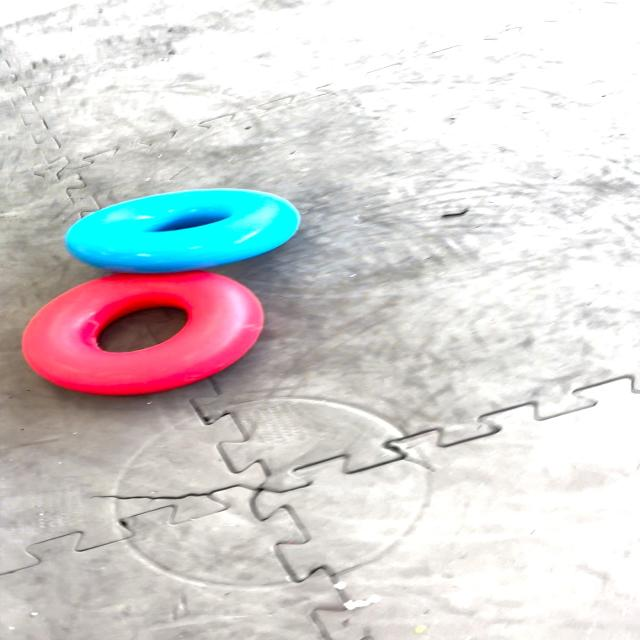Blue-Ring: (59, 189, 292, 272)
Red-Ring: (22, 270, 264, 395)
